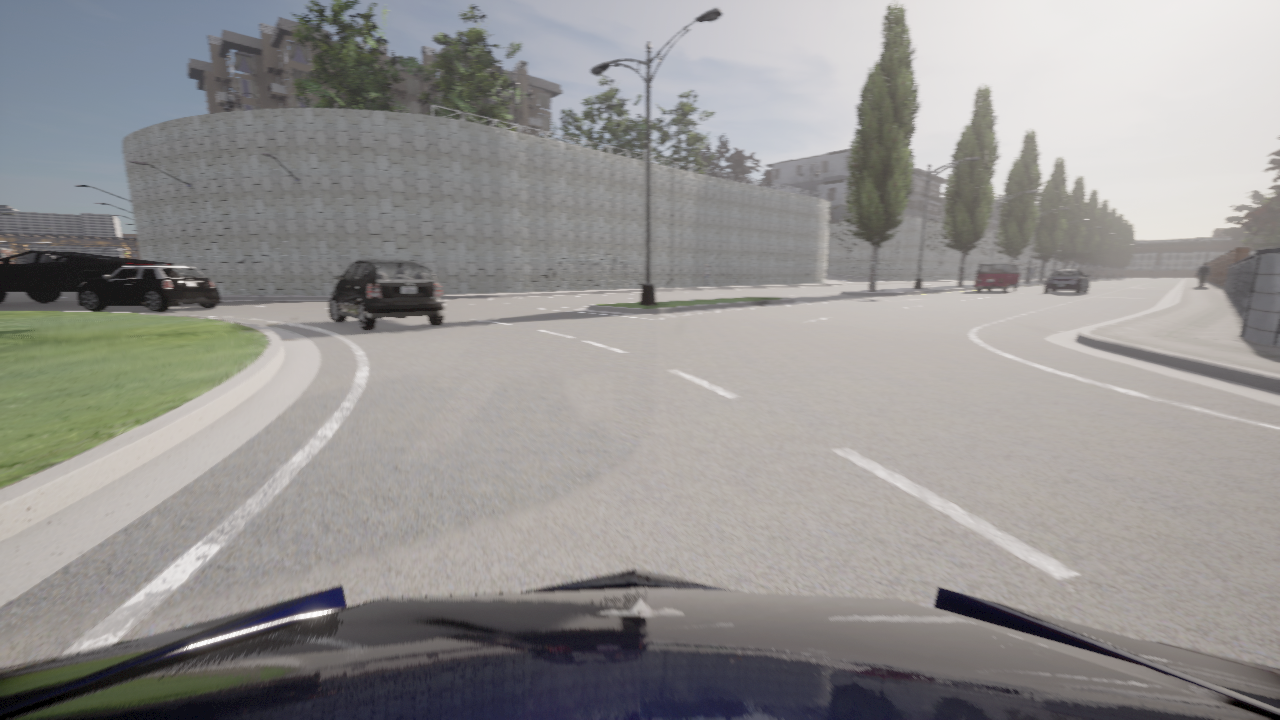cyclist: (0, 569, 1279, 719), (0, 250, 172, 302), (329, 258, 446, 330), (77, 265, 220, 311), (975, 261, 1022, 292), (1043, 269, 1089, 293)
pedestrian: (1196, 262, 1210, 287), (704, 264, 710, 286)
